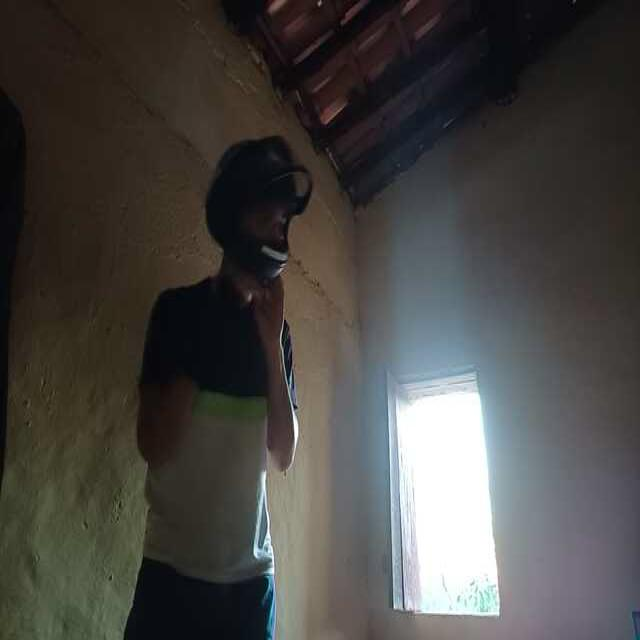capacete: (205, 138, 304, 266)
pessoa: (134, 186, 300, 640)
